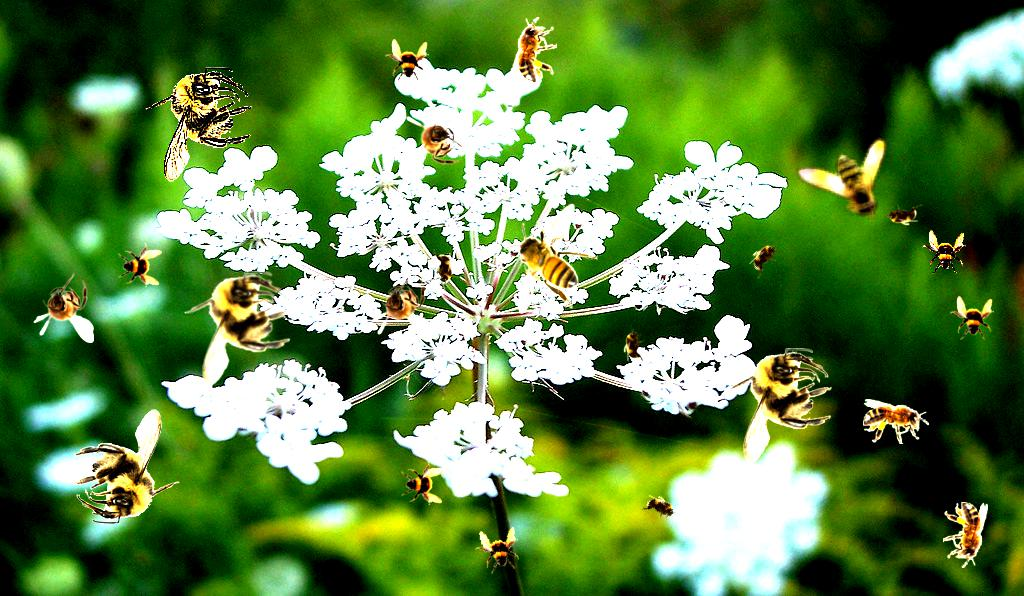Bee: (725, 348, 832, 463), (73, 409, 180, 524), (184, 271, 291, 386), (145, 67, 252, 182), (789, 122, 895, 222), (504, 203, 598, 314), (33, 273, 94, 343), (399, 110, 469, 171), (371, 272, 432, 342), (509, 15, 559, 84), (863, 399, 929, 444), (943, 502, 988, 568), (471, 523, 525, 577), (950, 296, 994, 340), (922, 230, 966, 274), (401, 461, 445, 505), (118, 243, 162, 287), (385, 39, 429, 83), (743, 235, 787, 279), (638, 489, 684, 527), (623, 325, 645, 365), (433, 249, 455, 289), (882, 204, 922, 226)
